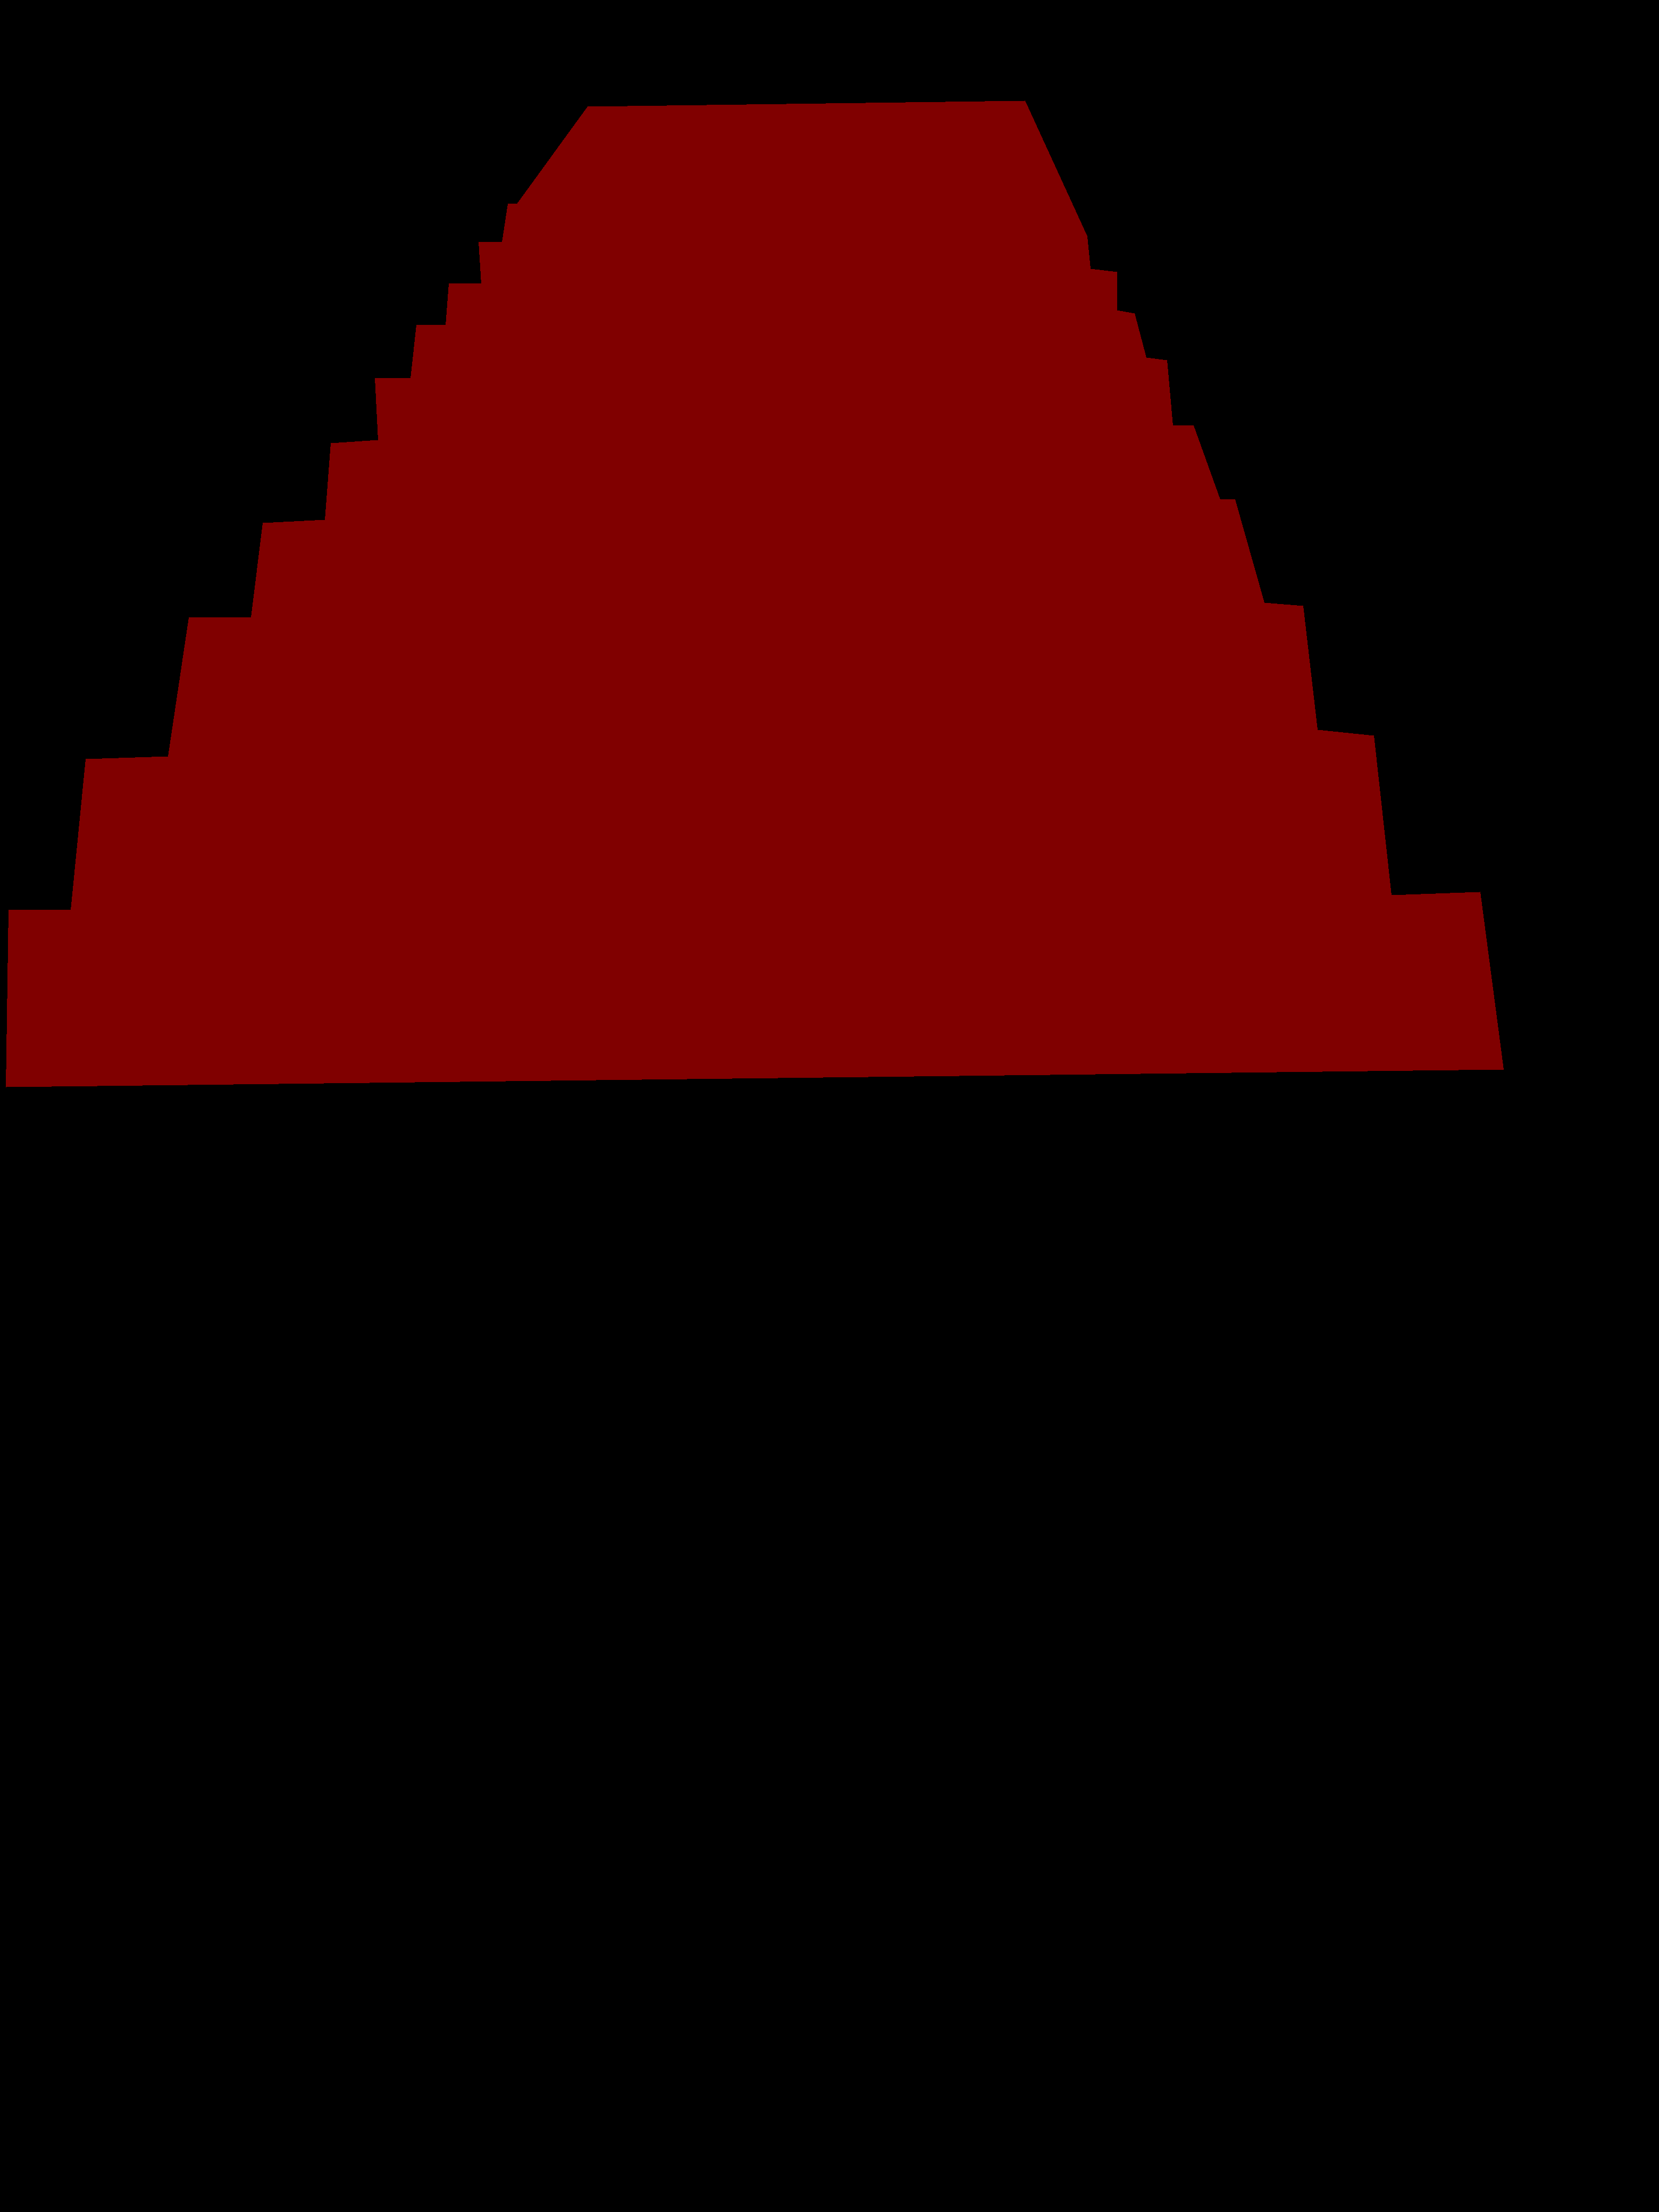stair: (5, 101, 1504, 1087)
